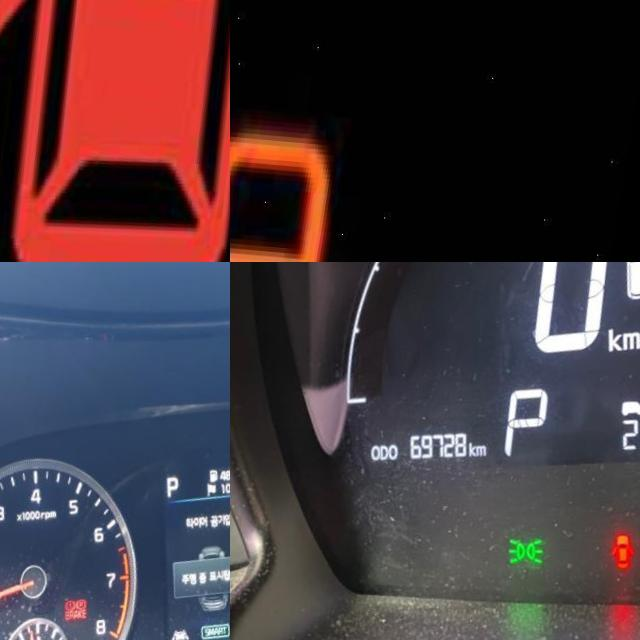Doors: (619, 520, 640, 561)
LaneCenteringOff: (183, 620, 204, 636)
SideLamp: (518, 523, 563, 561)
